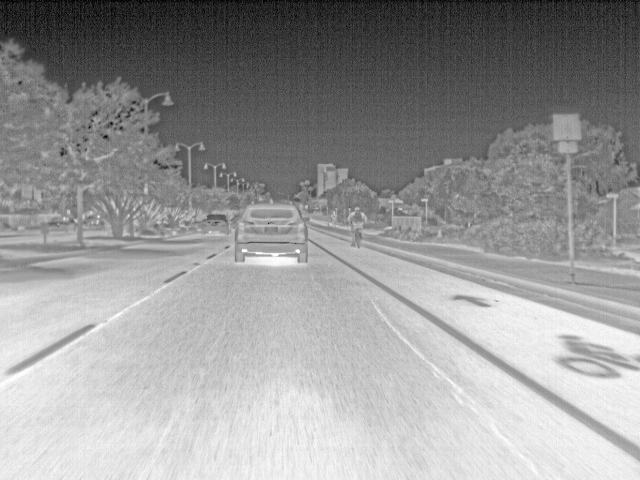car: (233, 202, 310, 264), (45, 214, 77, 235), (200, 213, 229, 234), (81, 218, 102, 232), (229, 210, 242, 230)
person: (347, 205, 367, 231), (330, 209, 338, 227)
